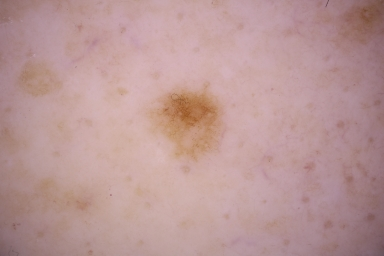nevus: (133, 76, 237, 166)
